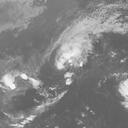cyclone: (50, 31, 92, 72), (116, 79, 127, 107)
